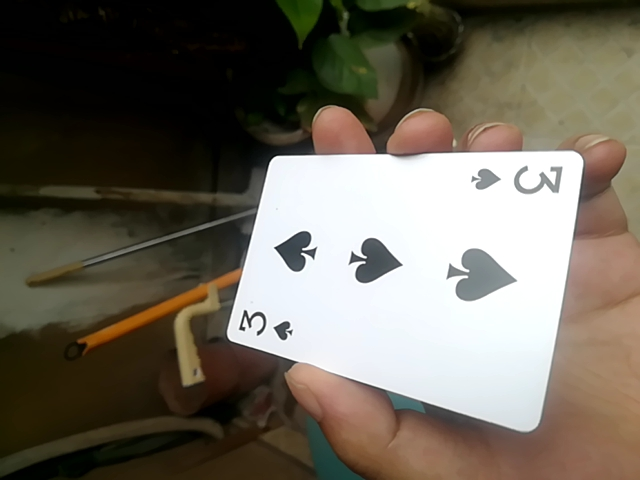ht 3: (207, 144, 591, 433)
